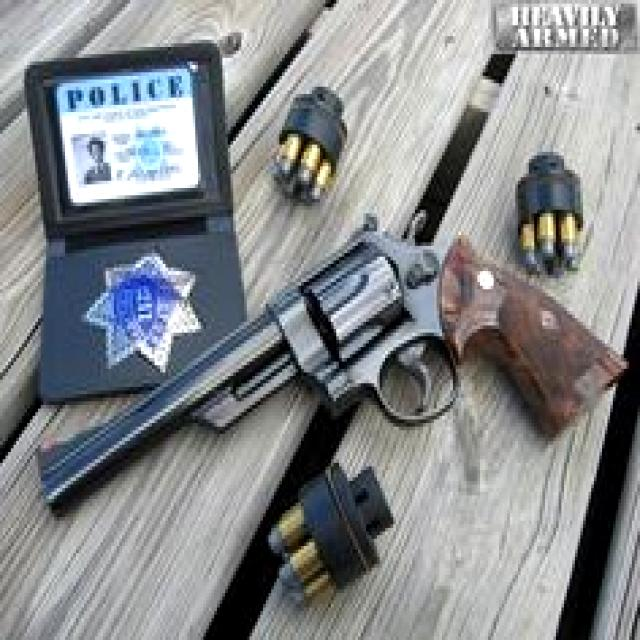revolver: (10, 210, 636, 533)
semi automatic: (9, 218, 640, 530)
